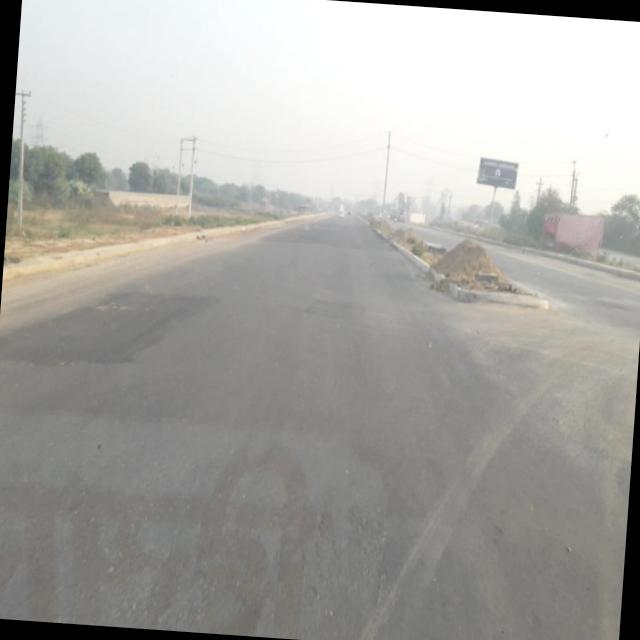crack: (260, 468, 402, 629)
